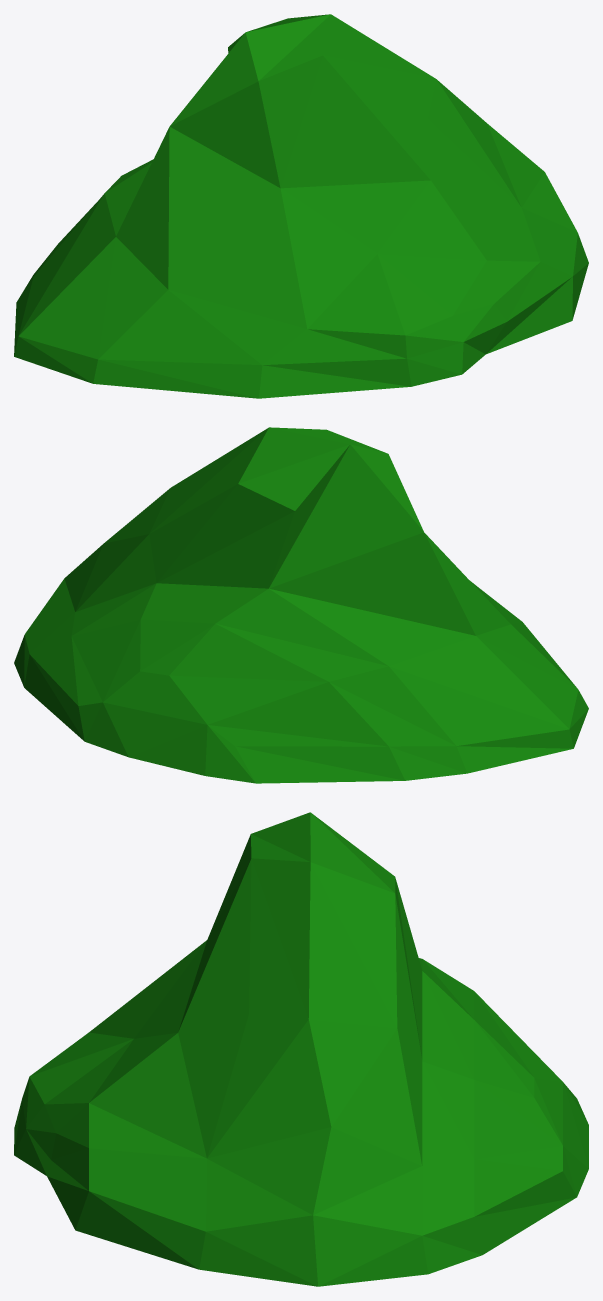
File: San1-3.fbx
The picture shows the model from 3 angles, top to bottom: view 1: azimuth 30°, elevation 25°; view 2: azimuth 150°, elevation 25°; view 3: azimuth 270°, elevation 25°; orthographic projection. The views are drawn at different scales.
Parts seen in each view (by area): view 1: San1-3; view 2: San1-3; view 3: San1-3.
Part boxes in pixels (<box>): San1-3: <box>14,14,588,398</box>; San1-3: <box>14,427,588,783</box>; San1-3: <box>14,812,588,1286</box>.
Size of the model in its own units: 63.75 by 28.99 by 50.81.
